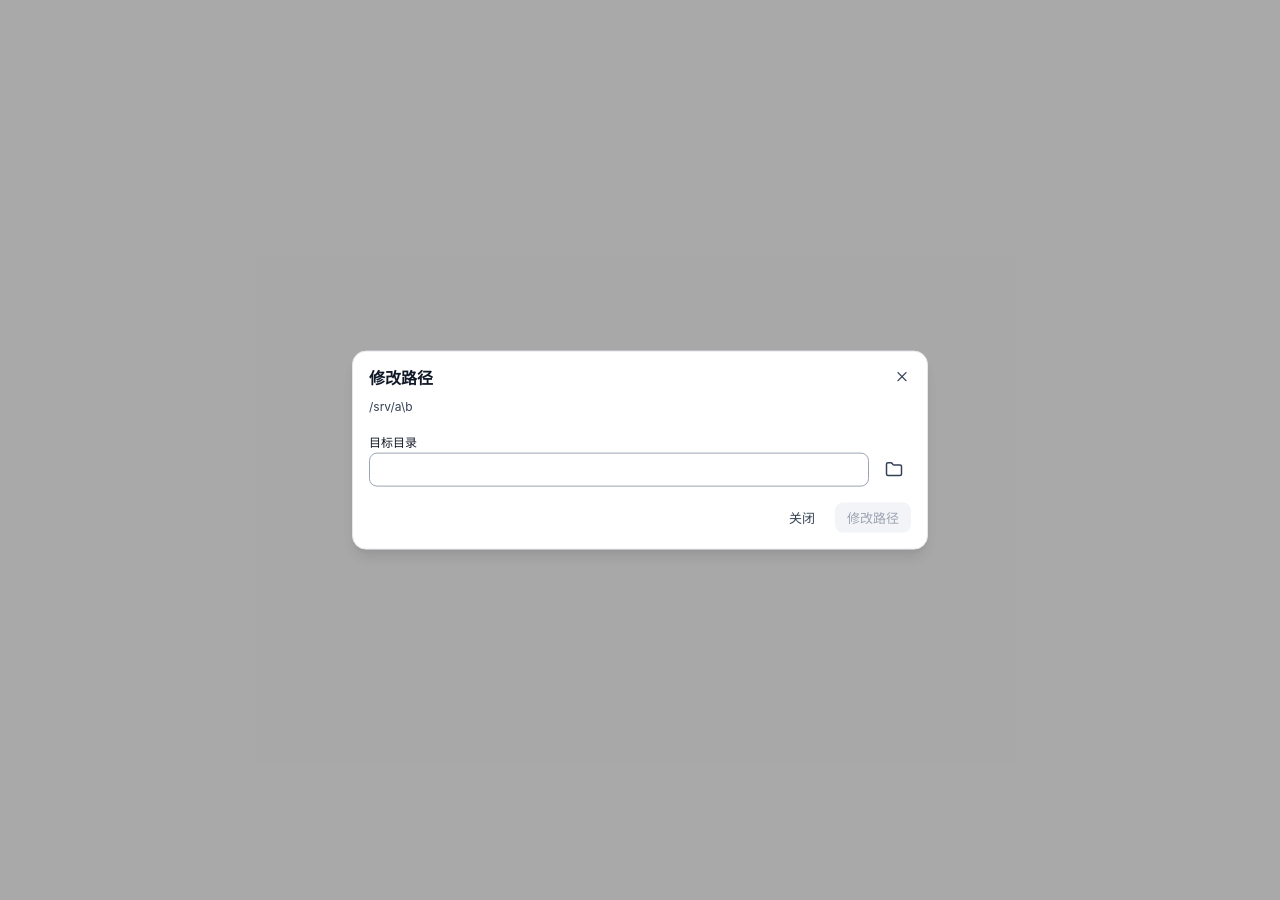
it: 按后端 Linux 语义拼接目标 /target\/a\b
Click the button named "选择目标父目录" at [894, 469], box [877,452,911,486]
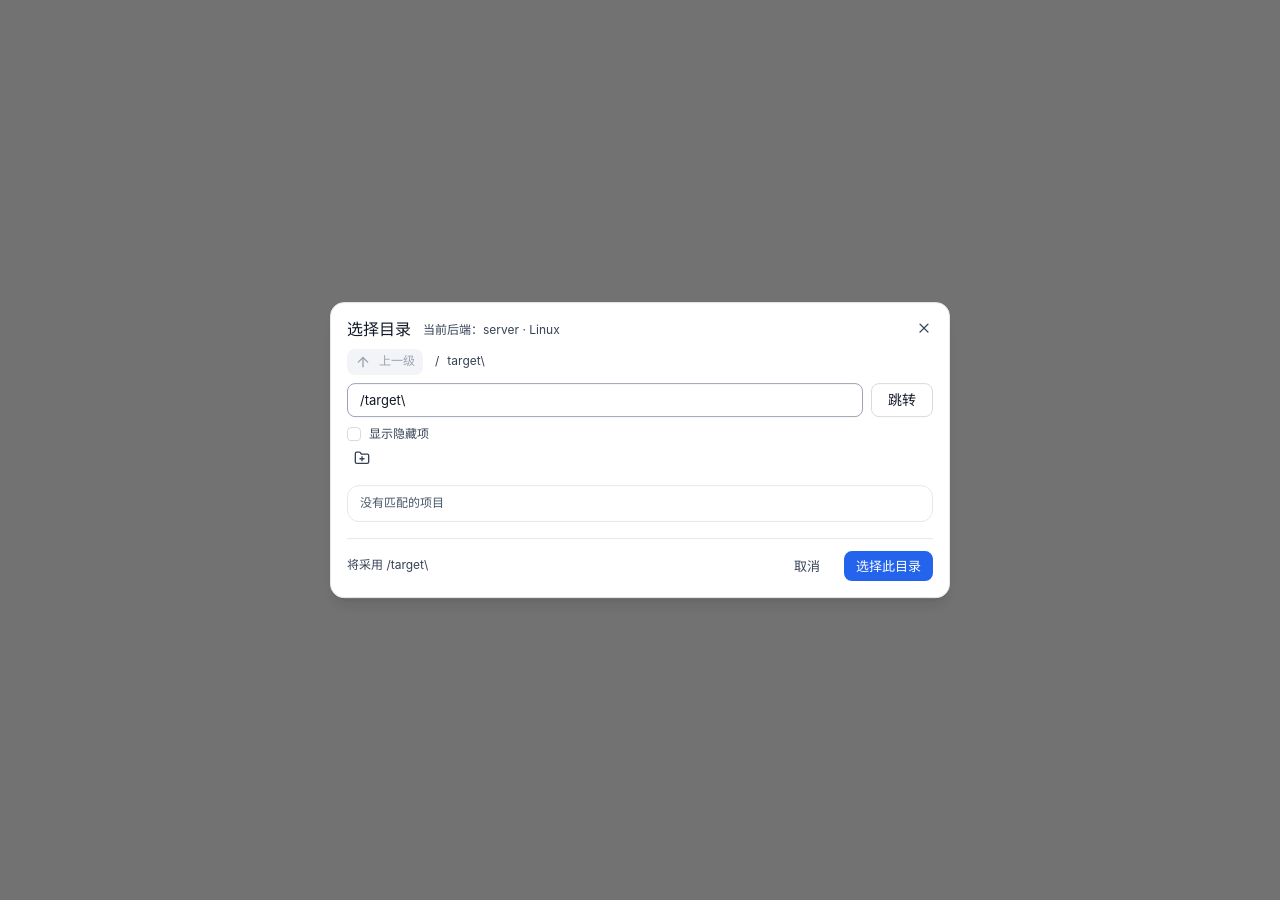
Expected: the text "没有匹配的项目" is shown, [360,495,444,510]
Click the button "选择此目录" at [888, 566], box [844,551,933,581]
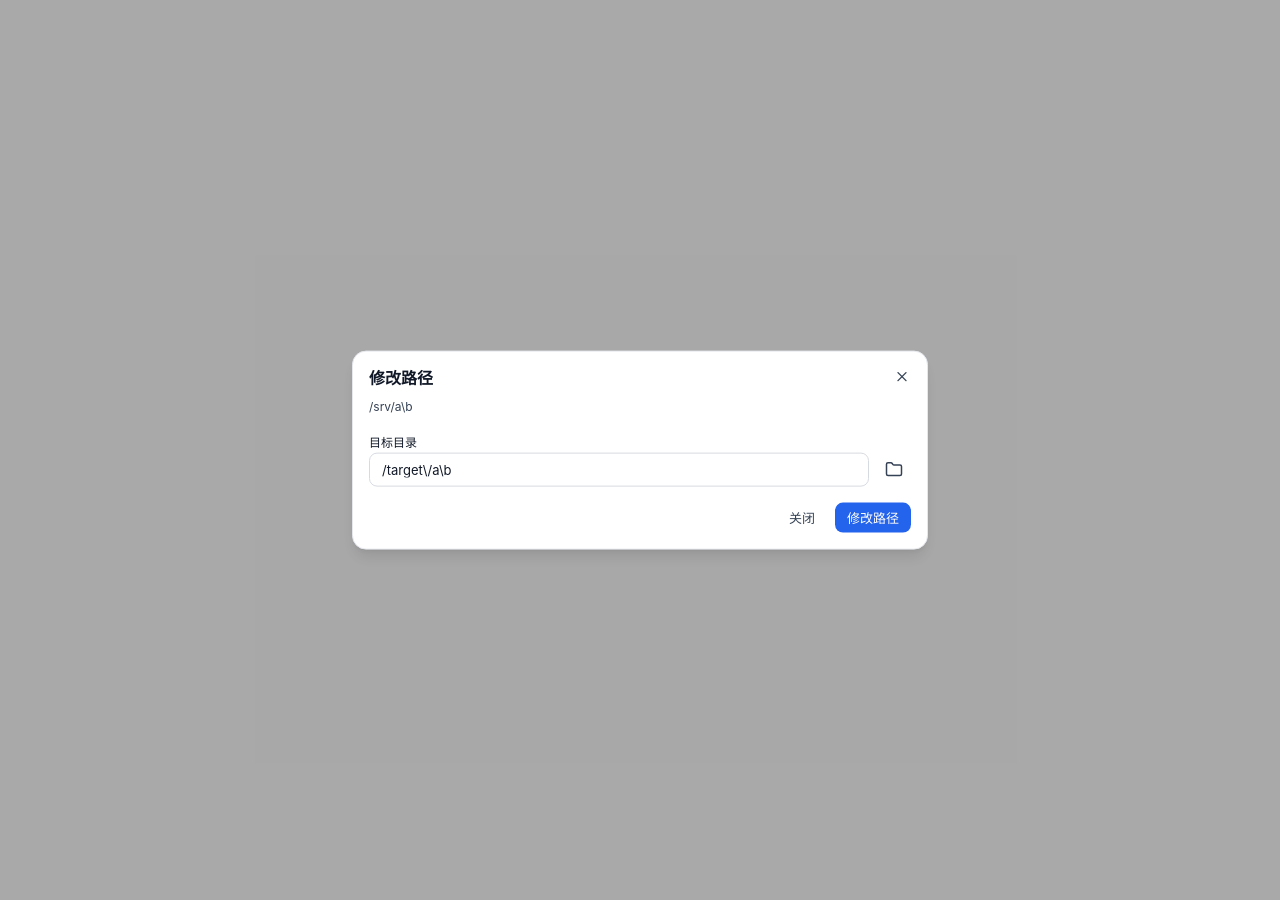
Expected: the field labelled "目标目录" holds "/target\\/a\\b", [369,452,869,486]
